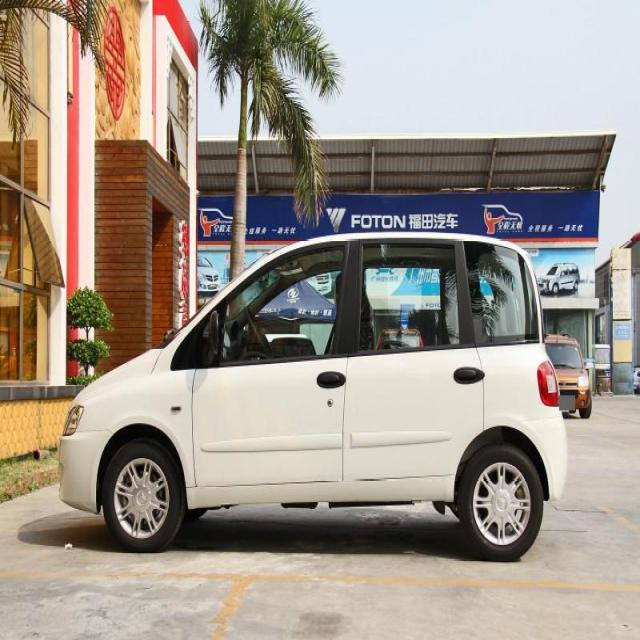back_left_side_light: (536, 355, 563, 409)
door: (353, 240, 491, 492)
front_left_side_door: (190, 236, 361, 489)
front_left_side_light: (62, 405, 88, 437)
front_left_side_mirror: (206, 306, 224, 350)
wheel: (464, 447, 546, 562), (106, 440, 183, 546)
